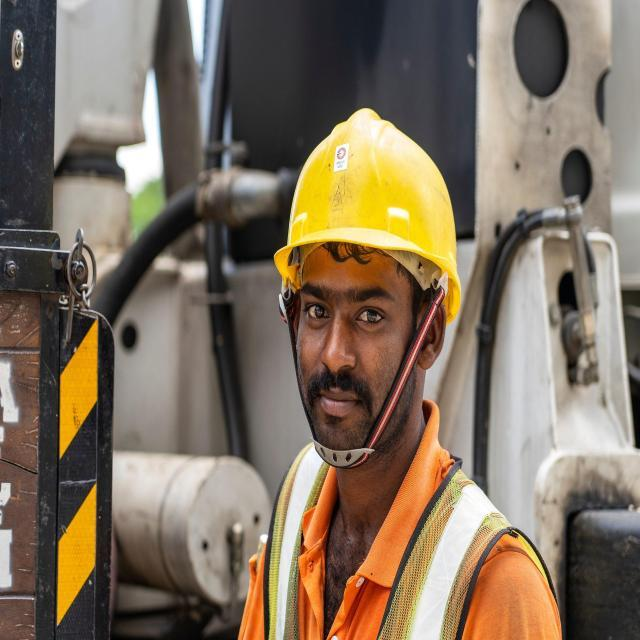reflective_jacket: (246, 416, 563, 639)
safety_helmet: (269, 103, 464, 305)
